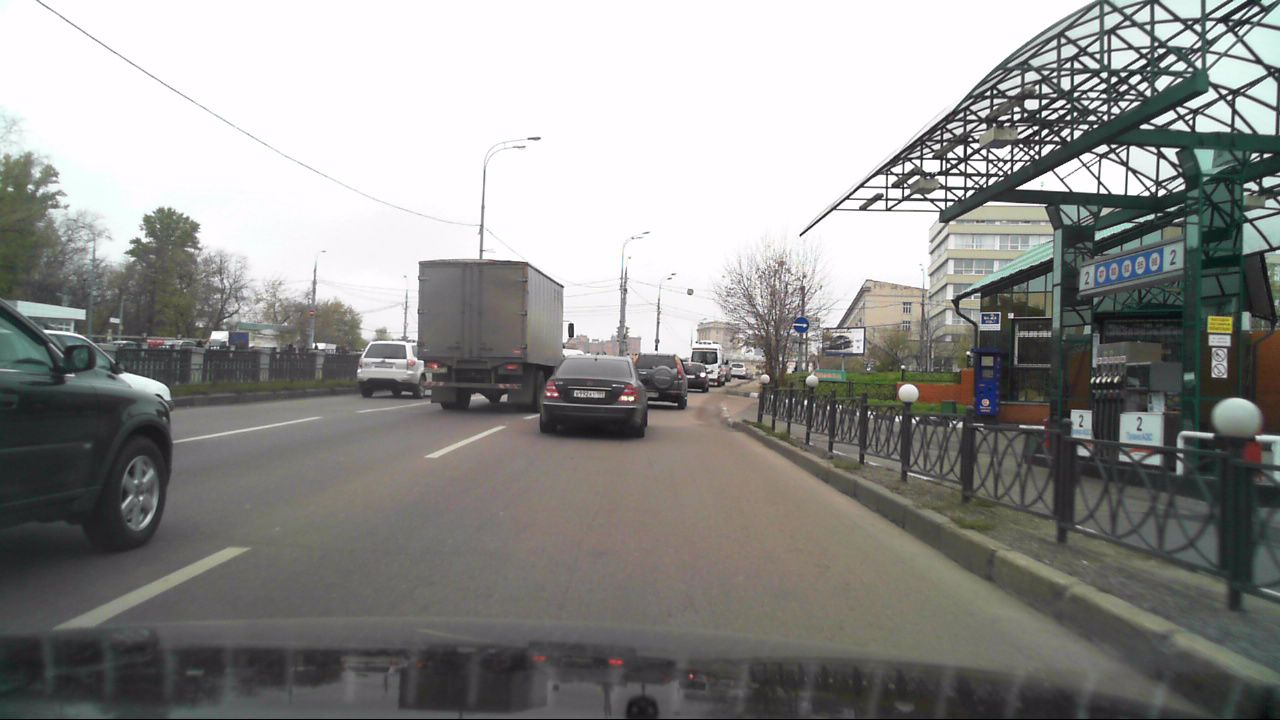Turn Right: (793, 316, 809, 333)
